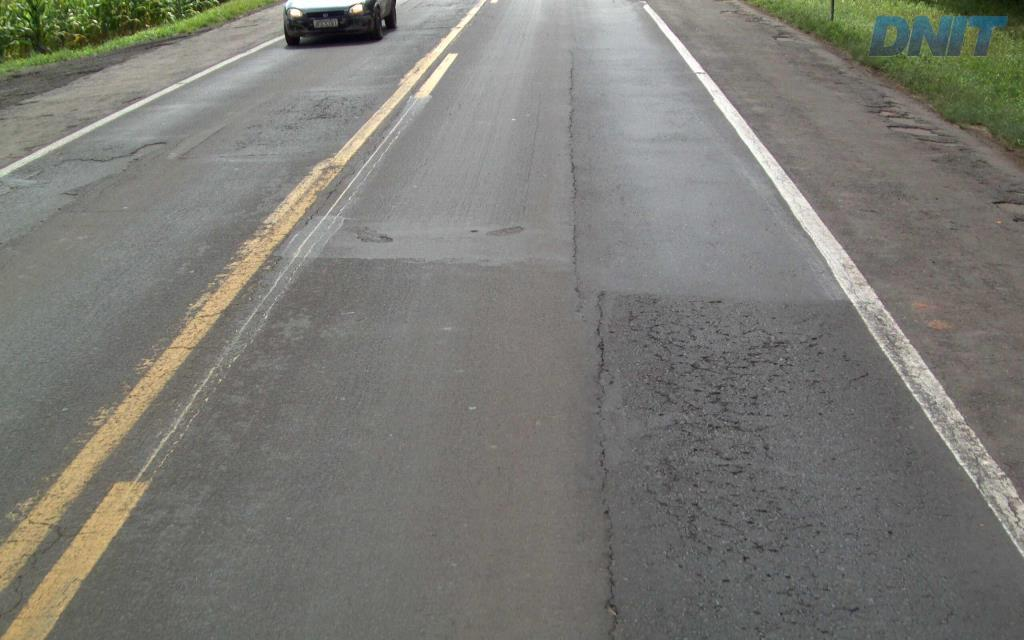crack: (602, 543, 633, 639)
